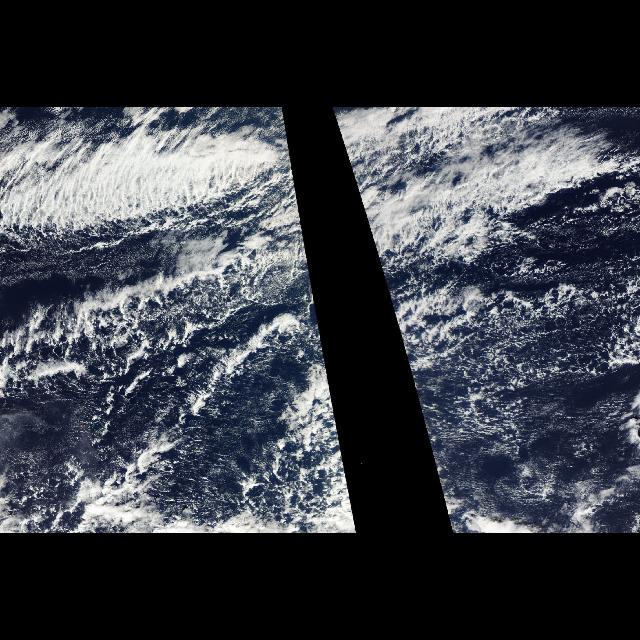Fish: (0, 121, 324, 346), (336, 121, 606, 346)
Gravel: (1, 214, 353, 530), (363, 213, 639, 503)
